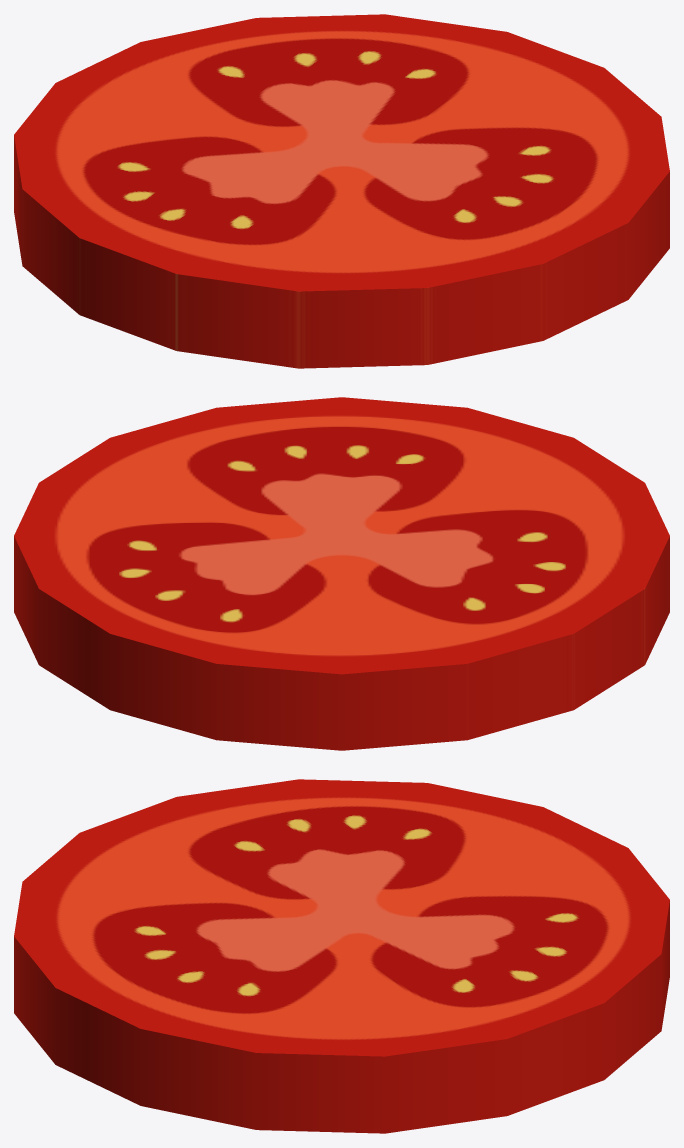
Rendered from Tomato_01_Ready_01.fbx.
3 views of the same model, one above another, from view 1: azimuth 30°, elevation 25°; view 2: azimuth 150°, elevation 25°; view 3: azimuth 270°, elevation 25° (orthographic).
Visible parts, largest first — view 1: Tomato_01_Ready_01; view 2: Tomato_01_Ready_01; view 3: Tomato_01_Ready_01.
Part boxes in pixels (x1,y1,x2,y2): Tomato_01_Ready_01: (14, 14, 669, 368); Tomato_01_Ready_01: (14, 397, 669, 750); Tomato_01_Ready_01: (14, 779, 669, 1133).
Bounding box in the file's own units: 31.16 × 4.04 × 31.16.
